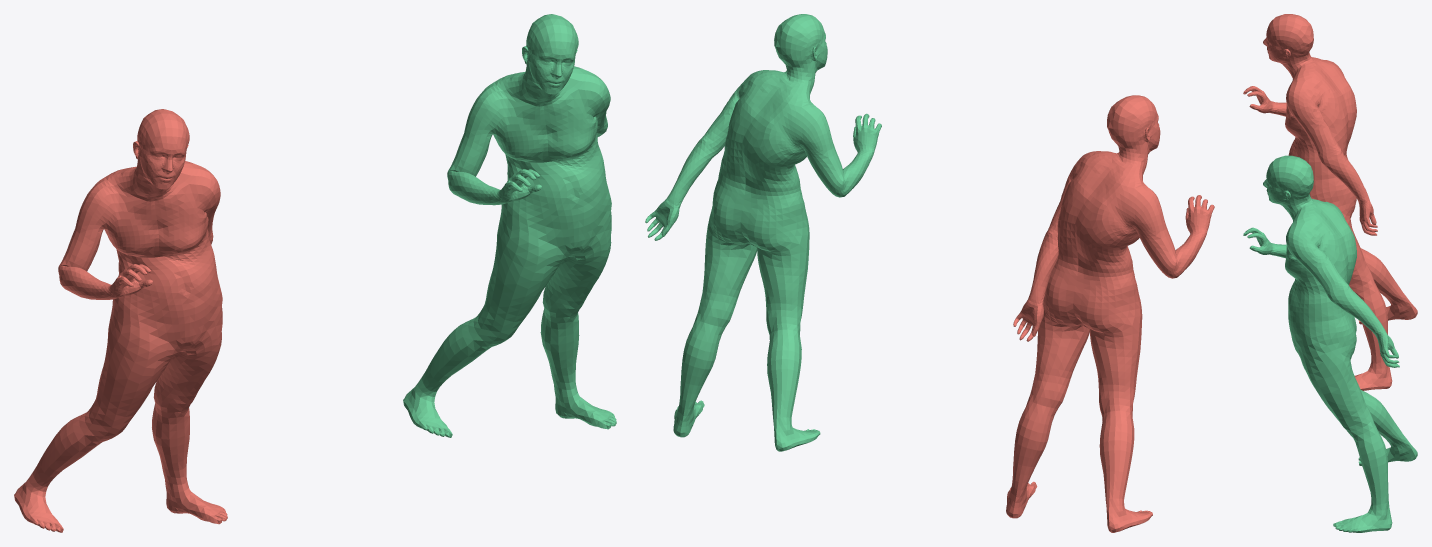
The model's file is pose_467_before_after.glb.
3 renders of one model, left to right at view 1: azimuth 30°, elevation 25°; view 2: azimuth 150°, elevation 25°; view 3: azimuth 270°, elevation 25°, orthographic. The views are drawn at different scales.
Visible parts, largest first — view 1: poseshield_green, input_red; view 2: poseshield_green, input_red; view 3: poseshield_green, input_red.
Part boxes in pixels (left/top/right/bottom): poseshield_green: left=403, top=14, right=616, bottom=437; input_red: left=14, top=109, right=227, bottom=532; poseshield_green: left=645, top=14, right=881, bottom=451; input_red: left=1006, top=95, right=1214, bottom=532; poseshield_green: left=1243, top=155, right=1417, bottom=532; input_red: left=1243, top=14, right=1417, bottom=390.
Size of what is drawn, in the model's own units: 2.12 by 1.62 by 0.7409.
